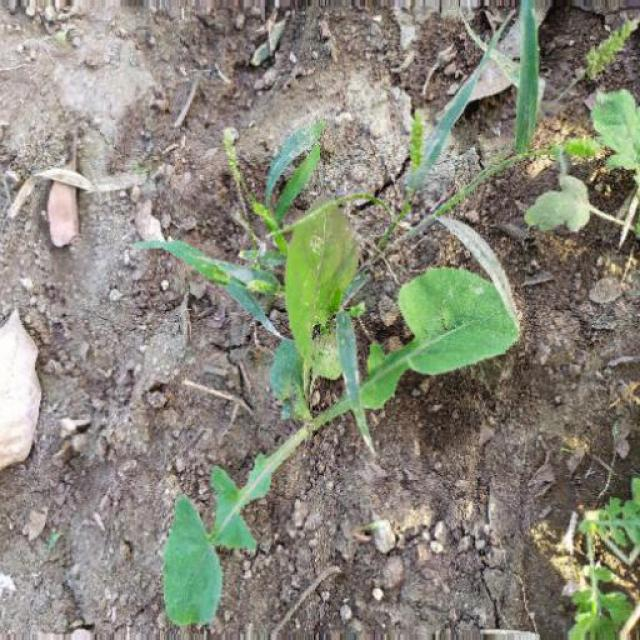weed: (121, 172, 526, 622)
